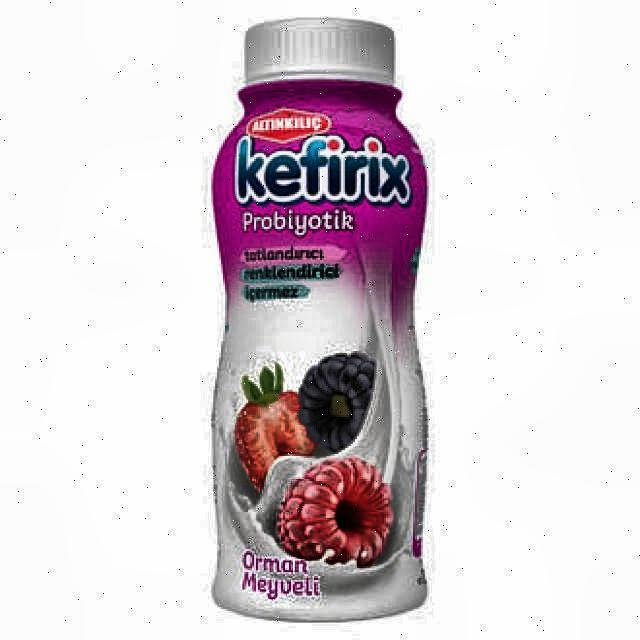plastic: (207, 15, 430, 626)
